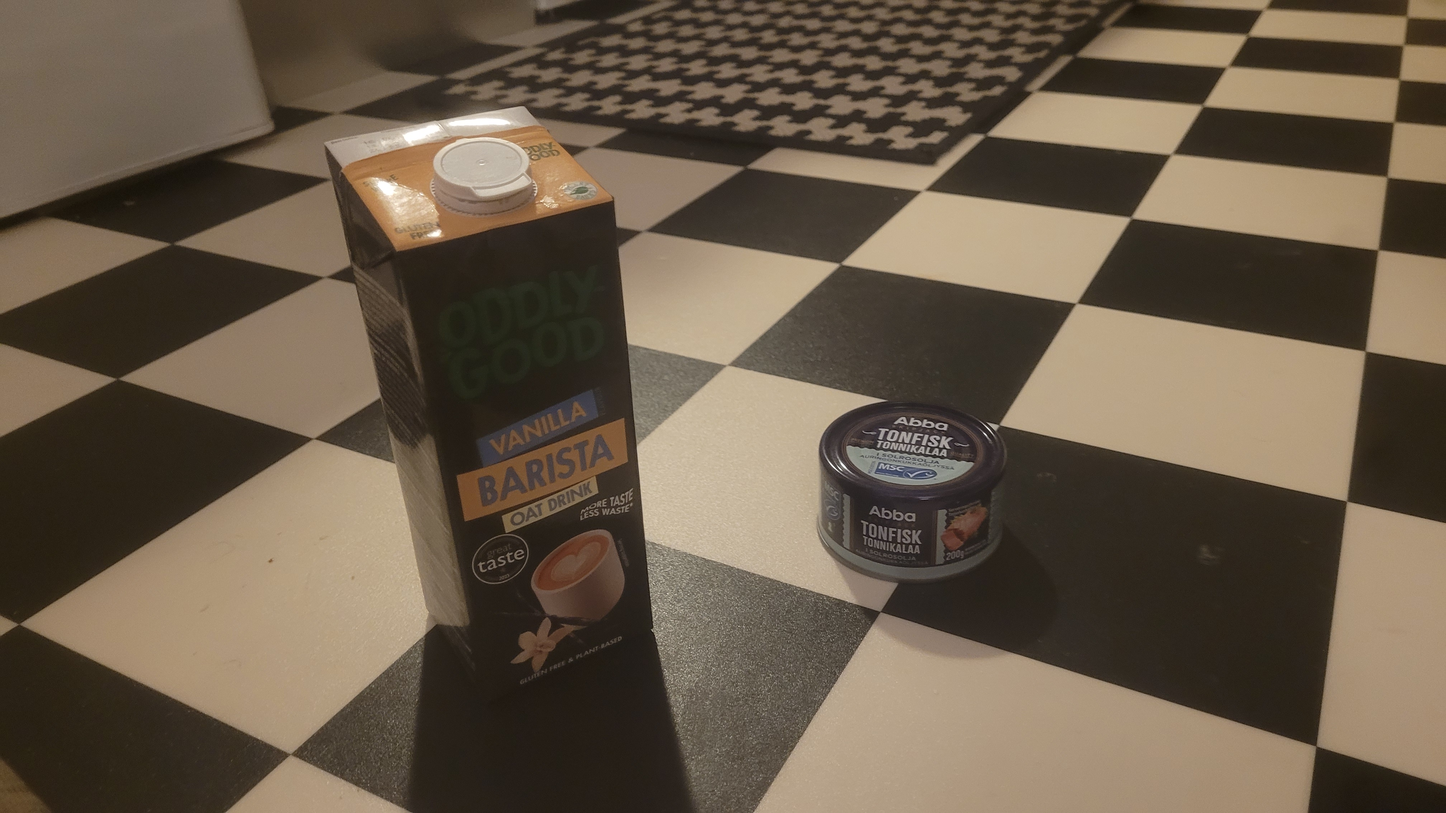Dryckeskartong: (323, 106, 654, 692)
Konservburk: (816, 399, 1007, 583)
